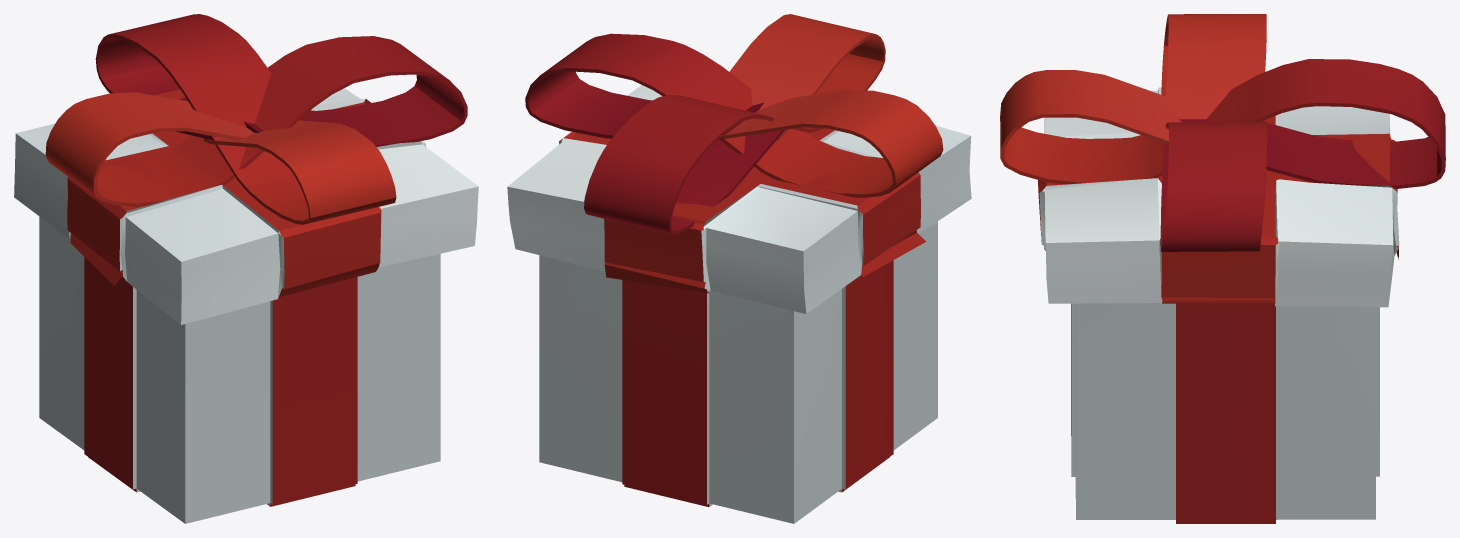
File: GiftBox.fbx
The picture shows the model from 3 angles, left to right: view 1: azimuth 30°, elevation 25°; view 2: azimuth 150°, elevation 25°; view 3: azimuth 270°, elevation 25°; orthographic projection. The views are drawn at different scales.
Visible parts, largest first — view 1: Christmas Gift; view 2: Christmas Gift; view 3: Christmas Gift.
Part boxes in pixels (x1=…): Christmas Gift: x1=14, y1=14, x2=478, y2=523; Christmas Gift: x1=507, y1=14, x2=971, y2=523; Christmas Gift: x1=1000, y1=14, x2=1445, y2=523.
Size of the model in its own units: 1306 by 1225 by 1306.
